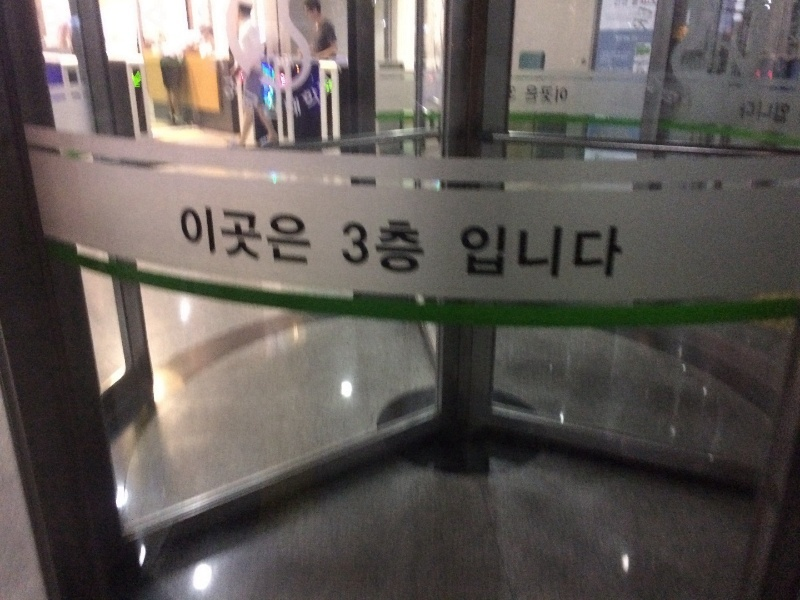text: (193, 203, 208, 268), (209, 203, 224, 268), (225, 203, 240, 268), (241, 203, 256, 268), (257, 203, 272, 268), (273, 203, 288, 268), (289, 203, 304, 268), (353, 216, 368, 278), (369, 216, 384, 278), (385, 216, 400, 278), (401, 216, 416, 278), (465, 223, 480, 283), (481, 223, 496, 283), (497, 223, 512, 283), (513, 223, 528, 283), (529, 223, 544, 283), (545, 223, 560, 283), (561, 223, 576, 283), (577, 223, 592, 283), (593, 223, 608, 283), (609, 223, 624, 283), (180, 203, 192, 268), (343, 216, 352, 278), (417, 216, 426, 278), (305, 203, 313, 268), (737, 98, 752, 127), (753, 98, 768, 127), (769, 98, 784, 127), (529, 82, 544, 108), (545, 82, 560, 108), (459, 223, 464, 283), (561, 82, 569, 108), (785, 98, 792, 127), (625, 223, 627, 283), (525, 82, 528, 108)
